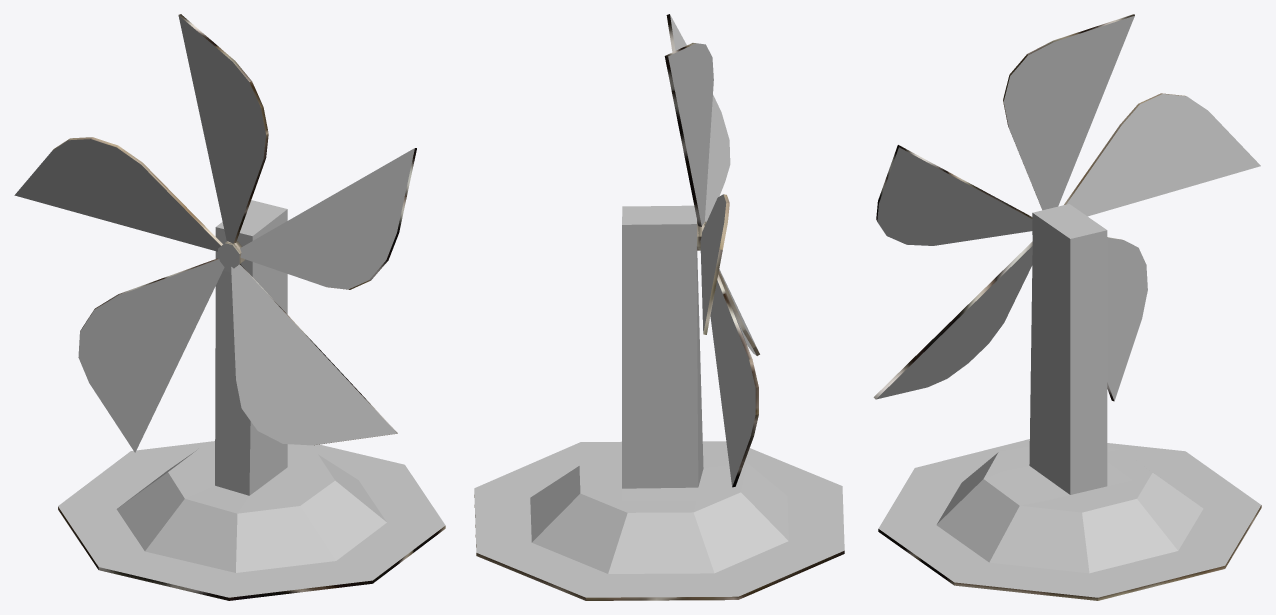
The model's file is Windmill1.fbx.
3 renders of one model, left to right at view 1: azimuth 30°, elevation 25°; view 2: azimuth 150°, elevation 25°; view 3: azimuth 270°, elevation 25°, orthographic. The views are drawn at different scales.
Visible parts, largest first — view 1: Windmill; view 2: Windmill; view 3: Windmill.
Part boxes in pixels (x1,y1,x2,y2): Windmill: (14,14,445,600); Windmill: (474,14,844,600); Windmill: (873,14,1261,600).
Size of the model in its own units: 2326 by 3258 by 2356.
